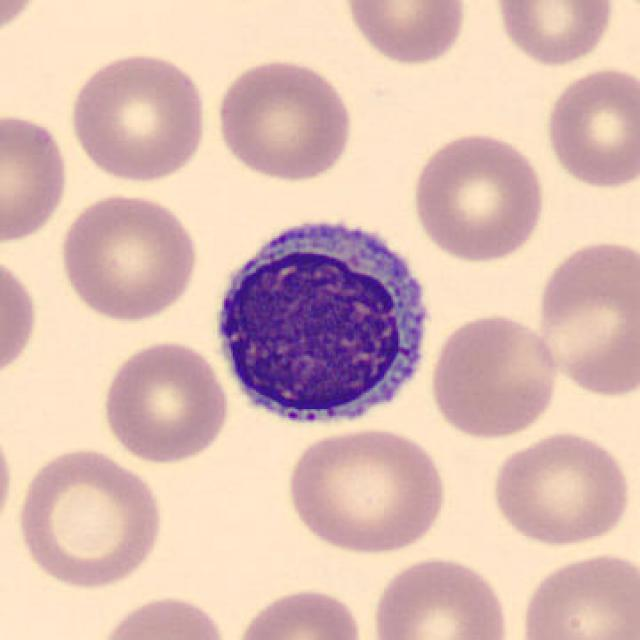Lymphocyte: (203, 203, 441, 437)
RBC: (13, 442, 167, 590), (281, 423, 450, 557), (55, 188, 203, 324), (66, 48, 210, 185), (407, 128, 548, 264), (212, 55, 356, 185), (487, 427, 635, 548), (530, 235, 638, 400), (426, 310, 562, 441), (98, 337, 233, 465), (366, 552, 514, 640), (540, 62, 638, 192), (516, 548, 638, 640), (0, 108, 73, 245), (340, 0, 471, 69), (491, 0, 618, 69), (229, 583, 367, 640), (90, 590, 231, 640), (0, 249, 41, 386), (0, 416, 16, 545), (0, 0, 48, 42)
